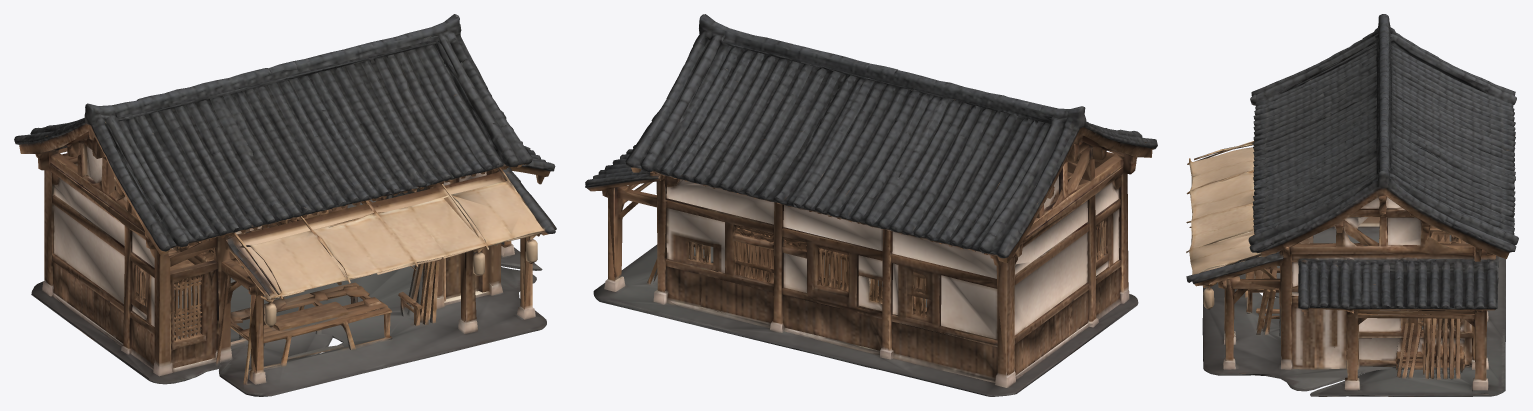
The model's file is 11_Carpenter_Workshop_LOD1.fbx.
The picture shows the model from 3 angles, left to right: view 1: azimuth 30°, elevation 25°; view 2: azimuth 150°, elevation 25°; view 3: azimuth 270°, elevation 25°; orthographic projection. The views are drawn at different scales.
Parts seen in each view (by area): view 1: 11_Carpenter_Workshop_L1; view 2: 11_Carpenter_Workshop_L1; view 3: 11_Carpenter_Workshop_L1.
Part boxes in pixels (left/top/right/bottom): 11_Carpenter_Workshop_L1: left=14, top=14, right=556, bottom=396; 11_Carpenter_Workshop_L1: left=585, top=14, right=1157, bottom=396; 11_Carpenter_Workshop_L1: left=1186, top=14, right=1518, bottom=396.
Bounding box in the file's own units: 11.21 × 6 × 8.74.
